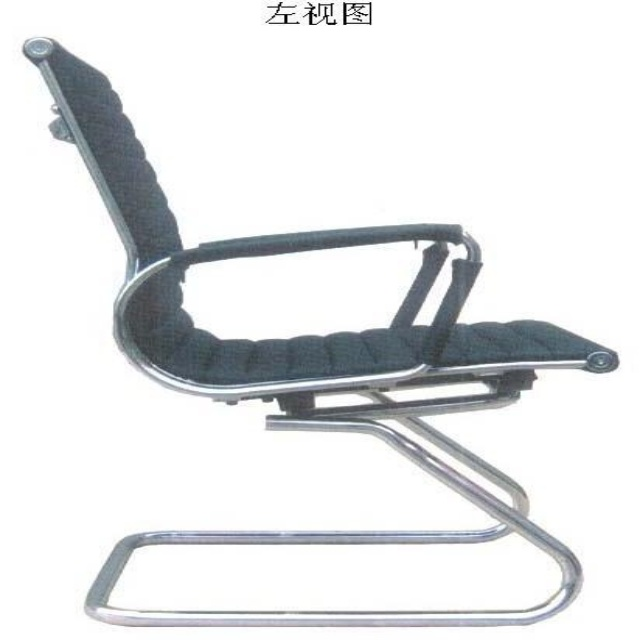obstacle: (23, 38, 617, 625)
